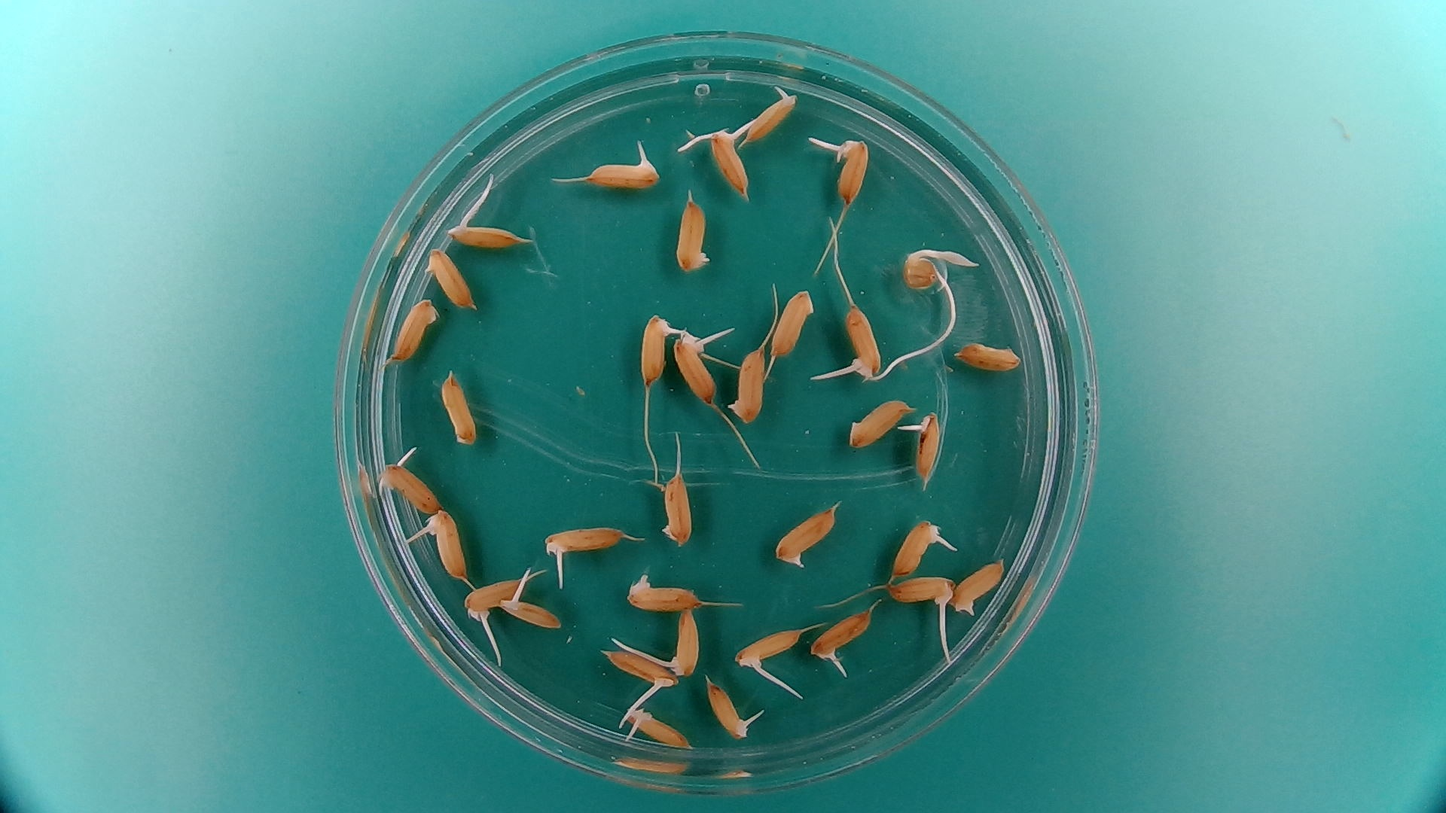no: (846, 394, 914, 450), (721, 344, 767, 425), (767, 289, 819, 360), (421, 245, 476, 312), (388, 296, 441, 364), (438, 368, 479, 447), (673, 193, 708, 275), (951, 336, 1023, 374)
yes: (772, 499, 841, 569), (538, 519, 630, 568), (809, 606, 875, 671), (377, 450, 444, 514), (600, 642, 679, 695), (671, 324, 721, 405), (890, 516, 953, 579), (732, 625, 806, 678), (953, 556, 1017, 617), (422, 506, 471, 583), (839, 302, 886, 381), (706, 120, 752, 197), (622, 570, 702, 614), (654, 465, 696, 547), (704, 675, 756, 741), (462, 575, 528, 626), (624, 703, 694, 750), (743, 86, 797, 145), (635, 310, 676, 386), (886, 573, 957, 616), (830, 132, 871, 204), (905, 409, 943, 485), (496, 592, 563, 632), (584, 158, 664, 191), (443, 219, 523, 251), (667, 607, 703, 678), (897, 244, 944, 293)
